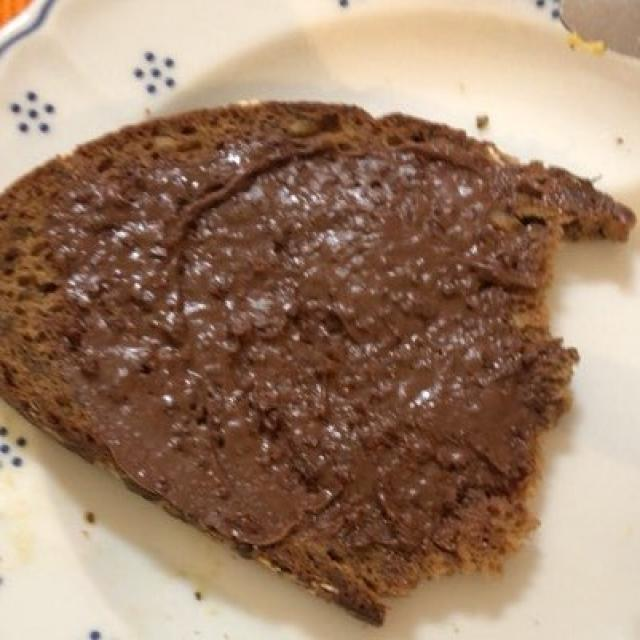bread: (7, 108, 614, 612)
nutella: (17, 137, 542, 585)
